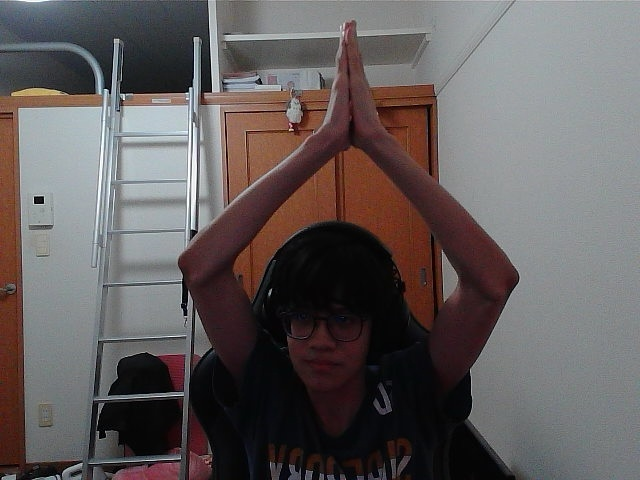pray: (349, 32, 363, 125)
